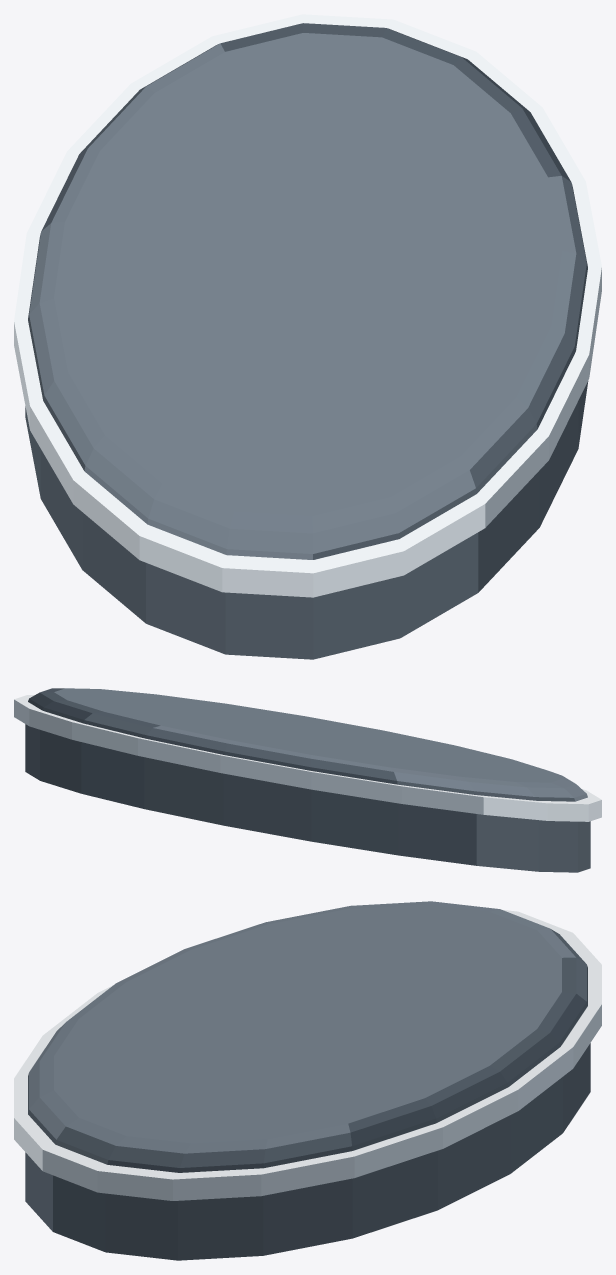
File: Plate_LatchBase.gltf
The picture shows the model from 3 angles, top to bottom: view 1: azimuth 30°, elevation 25°; view 2: azimuth 150°, elevation 25°; view 3: azimuth 270°, elevation 25°; orthographic projection. The views are drawn at different scales.
Visible parts, largest first — view 1: Plate_LatchBase_baked; view 2: Plate_LatchBase_baked; view 3: Plate_LatchBase_baked.
Part boxes in pixels (<box>): Plate_LatchBase_baked: <box>14,14,601,659</box>; Plate_LatchBase_baked: <box>14,688,601,872</box>; Plate_LatchBase_baked: <box>14,901,601,1260</box>.
Bounding box in the file's own units: 0.6693 × 0.347 × 0.6163.
